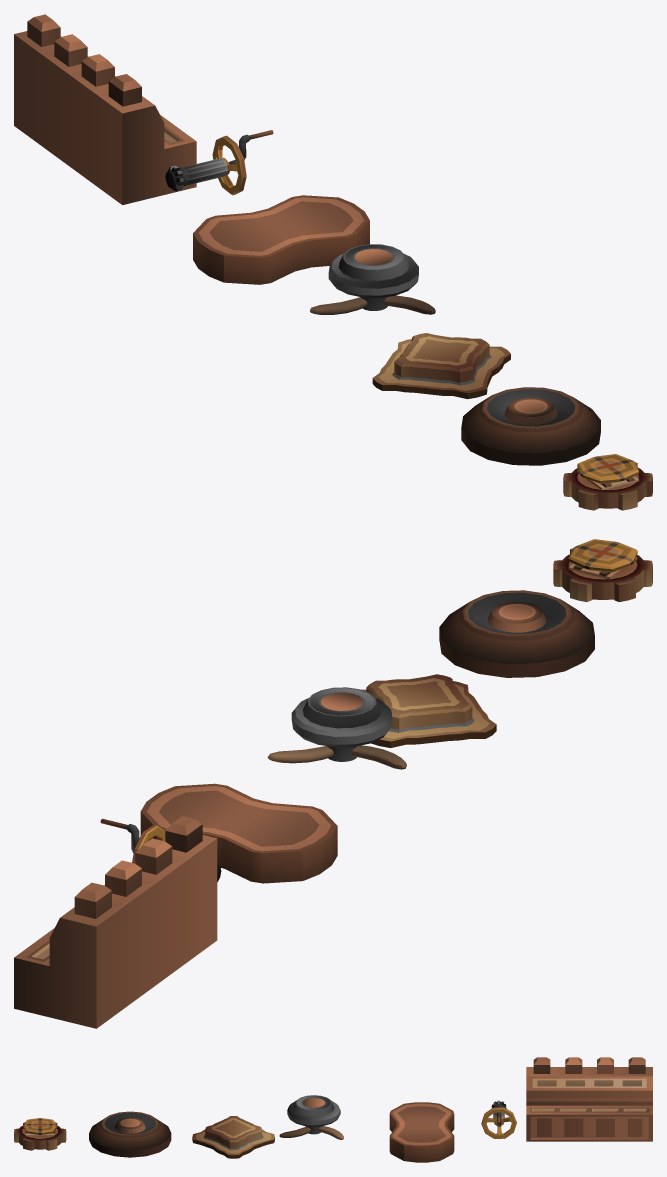
Rendered from Platform variantasion.fbx.
3 views of the same model, one above another, from view 1: azimuth 30°, elevation 25°; view 2: azimuth 150°, elevation 25°; view 3: azimuth 270°, elevation 25° (orthographic). The views are drawn at different scales.
Visible parts, largest first — view 1: Cube.004, Cube, Circle.002, Circle, Circle.001, Gear, Circle.003, Cube.006, Circle.004; view 2: Cube.004, Cube, Circle.002, Circle, Circle.001, Gear, Cube.006, Circle.004; view 3: Cube.004, Cube, Circle.002, Circle, Circle.001, Gear, Circle.003, Cube.006, Circle.004.
Boxes of the visible parts, x1,y1,x2,y2 form: Cube.004: (14, 14, 196, 204); Cube: (193, 195, 369, 284); Circle.002: (461, 387, 600, 465); Circle: (372, 333, 510, 399); Circle.001: (328, 244, 418, 310); Gear: (563, 462, 652, 510); Circle.003: (165, 135, 246, 195); Cube.006: (577, 454, 639, 484); Circle.004: (310, 295, 435, 314); Cube.004: (14, 816, 217, 1028); Cube: (140, 783, 337, 883); Circle.002: (439, 590, 594, 677); Circle: (361, 674, 496, 747); Circle.001: (291, 687, 392, 761); Gear: (553, 548, 652, 601); Cube.006: (568, 539, 637, 572); Circle.004: (267, 745, 406, 769); Cube.004: (526, 1057, 652, 1141); Cube: (389, 1102, 454, 1162); Circle.002: (89, 1111, 171, 1157); Circle: (192, 1116, 274, 1158); Circle.001: (287, 1095, 340, 1134); Gear: (14, 1122, 66, 1150); Circle.003: (481, 1100, 516, 1138); Cube.006: (23, 1118, 56, 1134); Circle.004: (279, 1126, 343, 1139).
Size of the model in its own units: 4.21 by 2.92 by 25.63.
